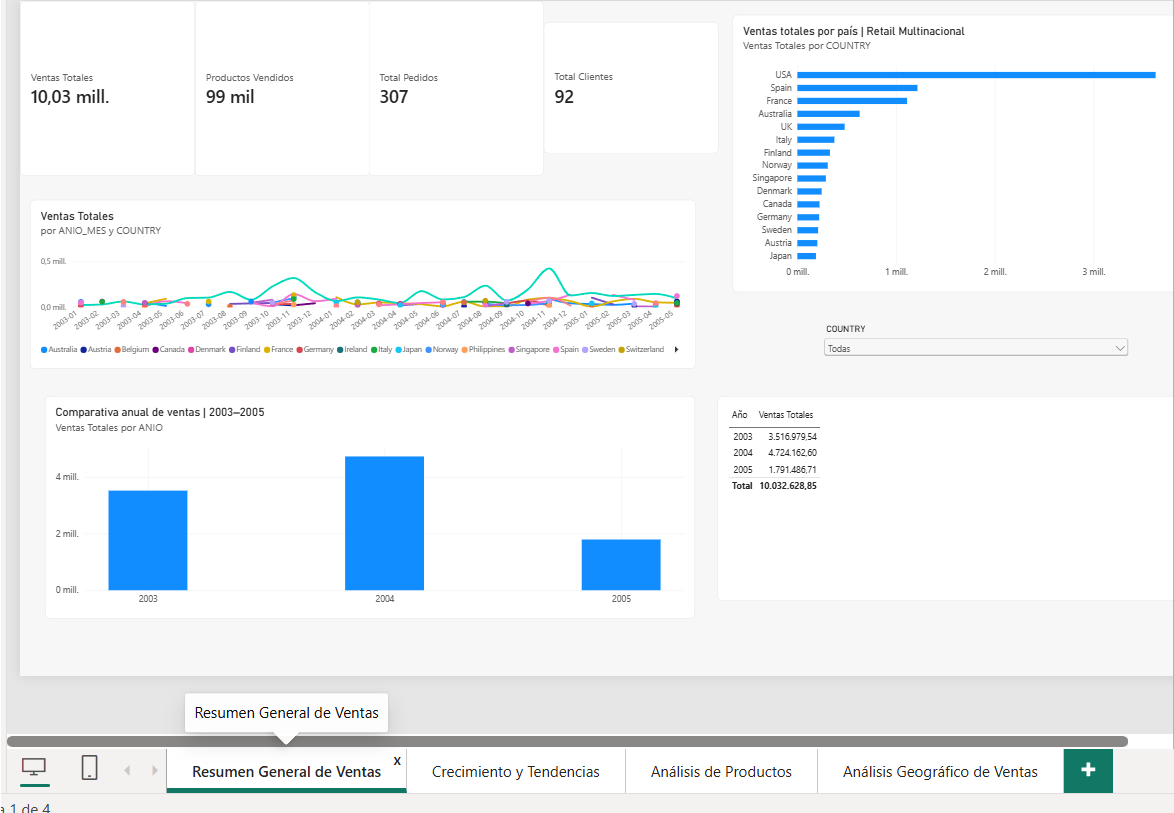

Layout of this report page (visuals, bound fields, positions):
{"tool":"powerbi","page":{"name":"Resumen General de Ventas","canvas":[1920,1080],"ordinal":0},"visuals":[{"type":"cardVisual","fields":{"Data":["sales_data_sample.Ventas Totales"]},"box":[0,0,280,280],"z":0},{"type":"cardVisual","fields":{"Data":["sales_data_sample.Productos Vendidos"]},"box":[279.1,0,280,280],"z":1000},{"type":"cardVisual","fields":{"Data":["sales_data_sample.Total Pedidos"]},"box":[558.2,0,280,280],"z":2000},{"type":"cardVisual","fields":{"Data":["sales_data_sample.Total Clientes"]},"box":[837.3,33.1,280,210],"z":3000},{"type":"clusteredBarChart","title":"Ventas totales por país | Retail Multinacional  ","fields":{"Category":["sales_data_sample.COUNTRY"],"Y":["sales_data_sample.Ventas Totales"]},"box":[1140,22,780,444],"z":4000},{"type":"lineChart","fields":{"Category":["sales_data_sample.ANIO_MES"],"Series":["sales_data_sample.COUNTRY"],"Y":["sales_data_sample.Ventas Totales"]},"box":[15.9,318.2,1065.9,270.5],"z":5000},{"type":"slicer","fields":{"Values":["sales_data_sample.COUNTRY"]},"box":[1282,516,496,144],"z":6000},{"type":"clusteredColumnChart","title":"Comparativa anual de ventas | 2003–2005","fields":{"Category":["sales_data_sample.ANIO"],"Y":["sales_data_sample.Ventas Totales"]},"box":[40.9,631.8,1040,356],"z":7000},{"type":"tableEx","fields":{"Values":["Calendario.Año","sales_data_sample.Ventas Totales"]},"box":[1115.9,631.8,780,328],"z":8000}]}

Visuals, with their boxes on the page's 1920x1080 design canvas (x1, y1, x2, y2). These are canvas units, not pixel positions in the 1174x813 screenshot, which may show the page scaled, cropped or inside an application window:
cardVisual - sales_data_sample.Ventas Totales: pyautogui.locateOnScreen(0, 0, 280, 280)
cardVisual - sales_data_sample.Productos Vendidos: pyautogui.locateOnScreen(279, 0, 559, 280)
cardVisual - sales_data_sample.Total Pedidos: pyautogui.locateOnScreen(558, 0, 838, 280)
cardVisual - sales_data_sample.Total Clientes: pyautogui.locateOnScreen(837, 33, 1117, 243)
"Ventas totales por país | Retail Multinacional  " clusteredBarChart: pyautogui.locateOnScreen(1140, 22, 1920, 466)
lineChart - sales_data_sample.ANIO_MES x sales_data_sample.COUNTRY: pyautogui.locateOnScreen(16, 318, 1082, 589)
slicer - sales_data_sample.COUNTRY: pyautogui.locateOnScreen(1282, 516, 1778, 660)
"Comparativa anual de ventas | 2003–2005" clusteredColumnChart: pyautogui.locateOnScreen(41, 632, 1081, 988)
tableEx - Calendario.Año x sales_data_sample.Ventas Totales: pyautogui.locateOnScreen(1116, 632, 1896, 960)
